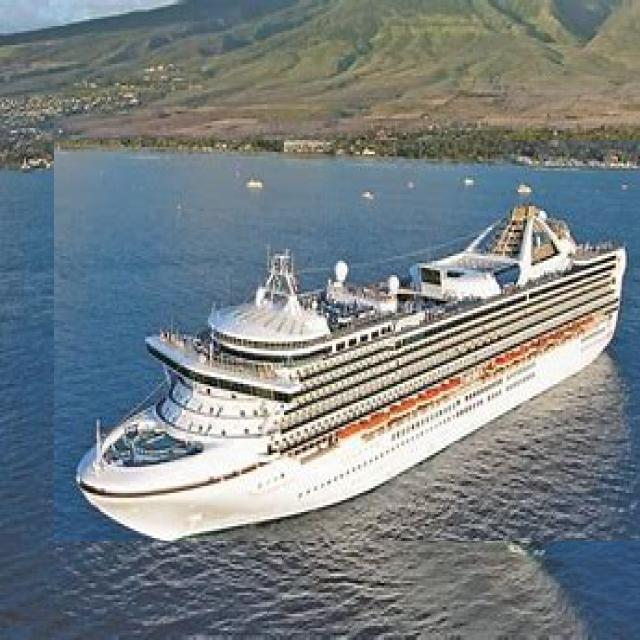PassengerShip: (54, 140, 640, 541)
